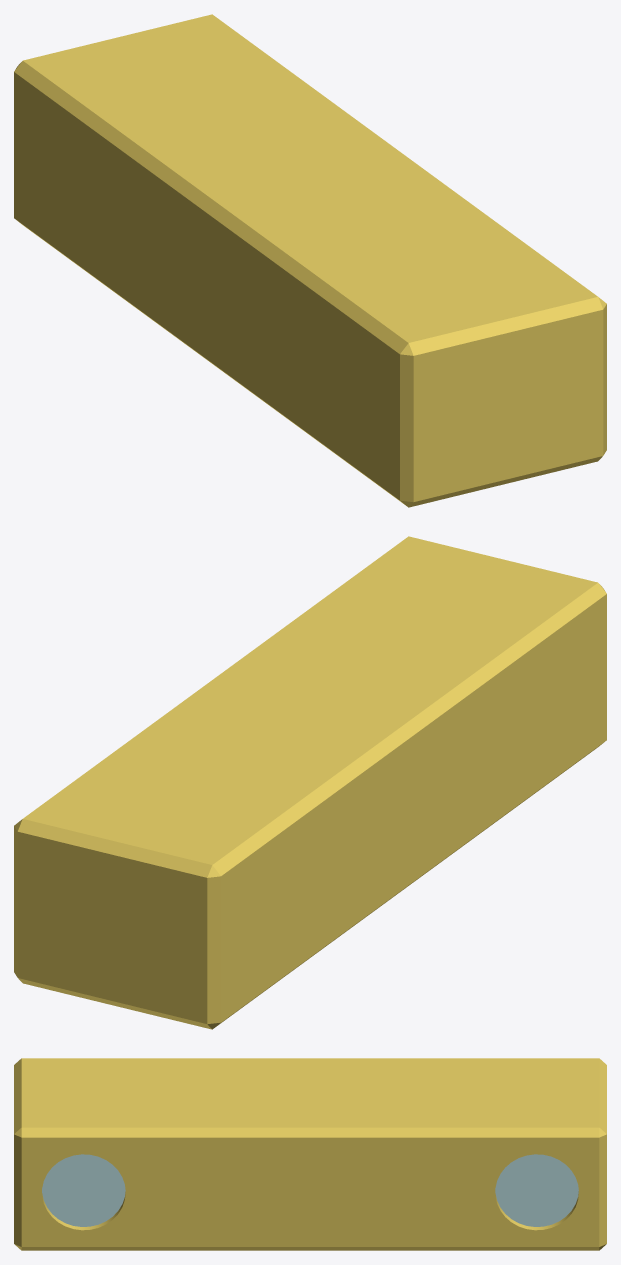
The model's file is bumblebee2.dae.
3 views of the same model, one above another, from view 1: azimuth 30°, elevation 25°; view 2: azimuth 150°, elevation 25°; view 3: azimuth 270°, elevation 25° (orthographic). The views are drawn at different scales.
Visible parts, largest first — view 1: mesh_1; view 2: mesh_1; view 3: mesh_1, mesh_2.
Boxes of the visible parts, x1,y1,x2,y2 form: mesh_1: [14, 14, 606, 507]; mesh_1: [14, 536, 606, 1029]; mesh_1: [14, 1058, 606, 1250]; mesh_2: [42, 1154, 578, 1226].
Bounding box in the file's own units: 0.0474 × 0.157 × 0.036.
